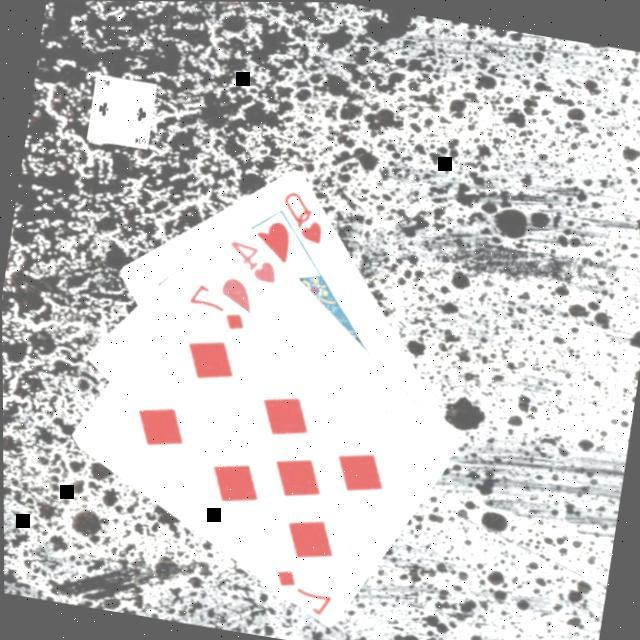4H: (220, 232, 284, 286)
7D: (181, 278, 252, 332), (266, 561, 336, 614)
QH: (272, 183, 330, 244)
